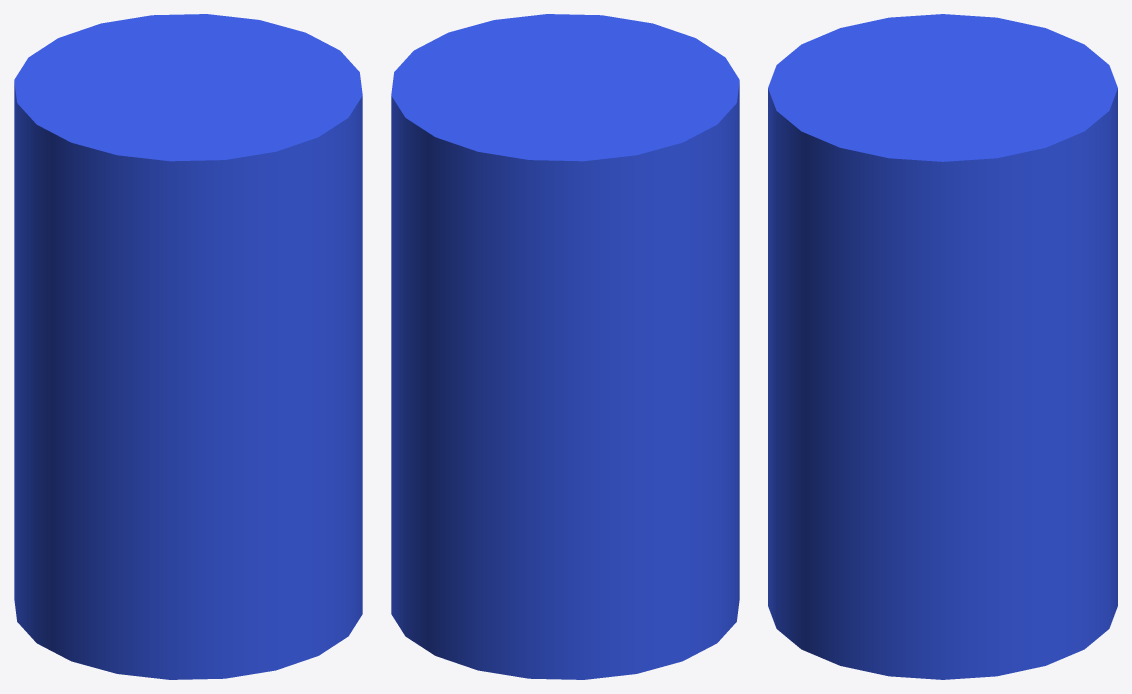
Rendered from PeceraCristal.obj.
3 views of the same model, side by side, from view 1: azimuth 30°, elevation 25°; view 2: azimuth 150°, elevation 25°; view 3: azimuth 270°, elevation 25° (orthographic).
Visible parts, largest first — view 1: PeceraCristal:polySurface1pCylinder3; view 2: PeceraCristal:polySurface1pCylinder3; view 3: PeceraCristal:polySurface1pCylinder3.
Boxes of the visible parts, left/top/right/bottom form: PeceraCristal:polySurface1pCylinder3: left=14, top=14, right=362, bottom=679; PeceraCristal:polySurface1pCylinder3: left=391, top=14, right=739, bottom=679; PeceraCristal:polySurface1pCylinder3: left=768, top=14, right=1117, bottom=679.
Size of the model in its own units: 4.11 by 6.72 by 4.11.
Materials: 1 (1 with a texture image).
